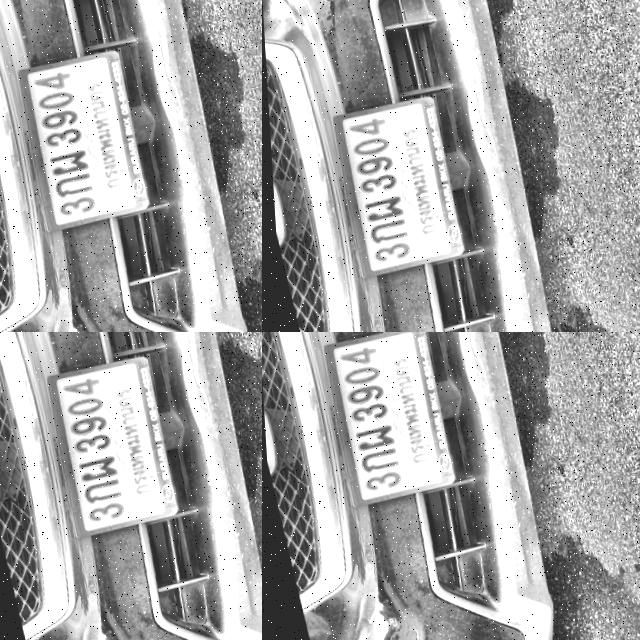license-plate: (309, 332, 456, 513), (0, 249, 179, 332)
